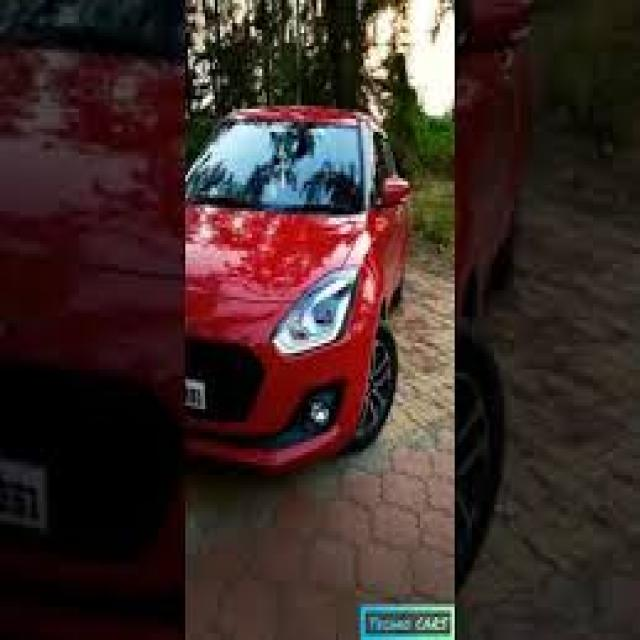Car: (184, 110, 410, 473)
